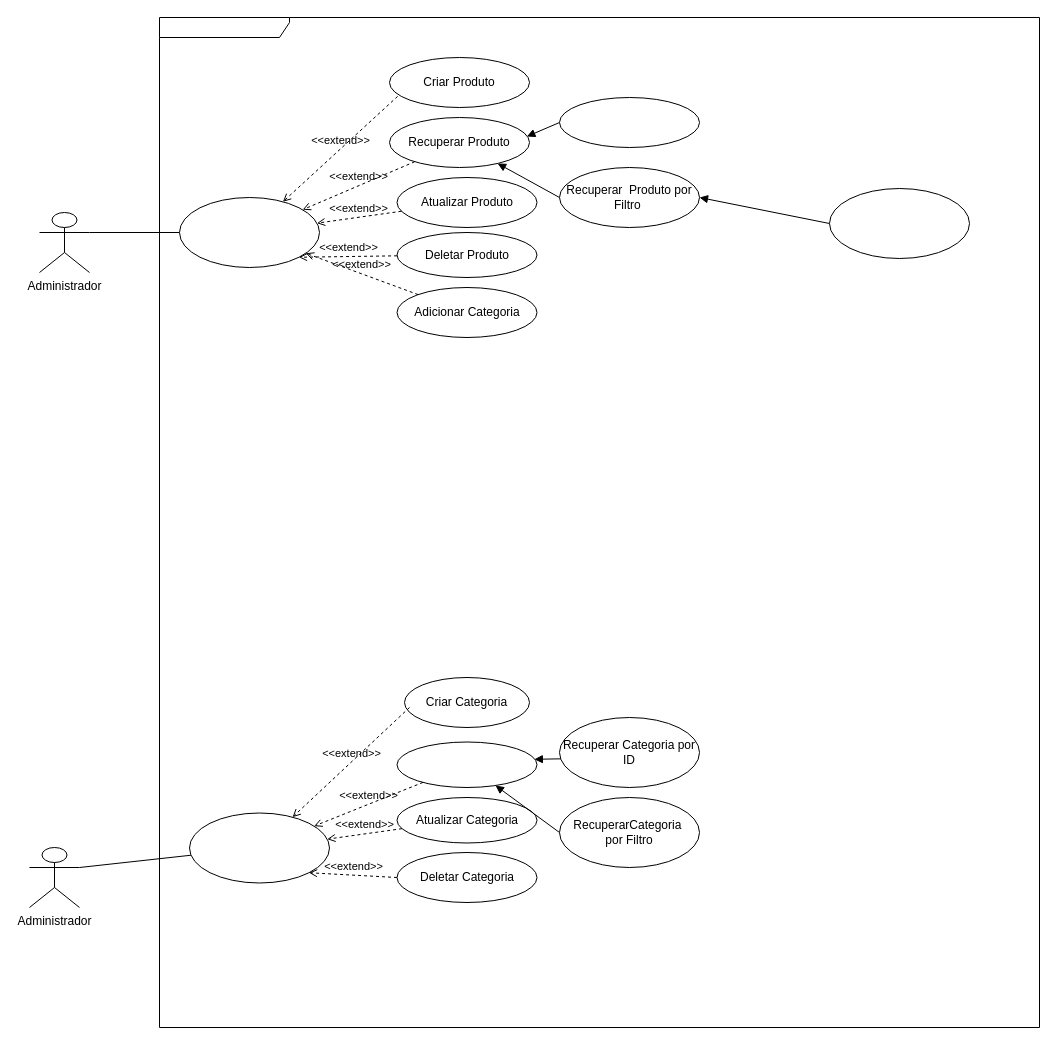
The diagram is 1057 pixels wide and 1045 high, and some of its shapes have lost their labels. The shapes that lost their labels are listed below. From the top down, each one's centre as x and y in pixels, then its label:
At pixel 629 122: "Recuperar Produto por ID".
At pixel 249 232: "Gerenciar Produto".
At pixel 899 223: "Recuperar por Categoria".
At pixel 466 764: "Recuperar Categoria".
At pixel 259 847: "Gerenciar Categoria".
